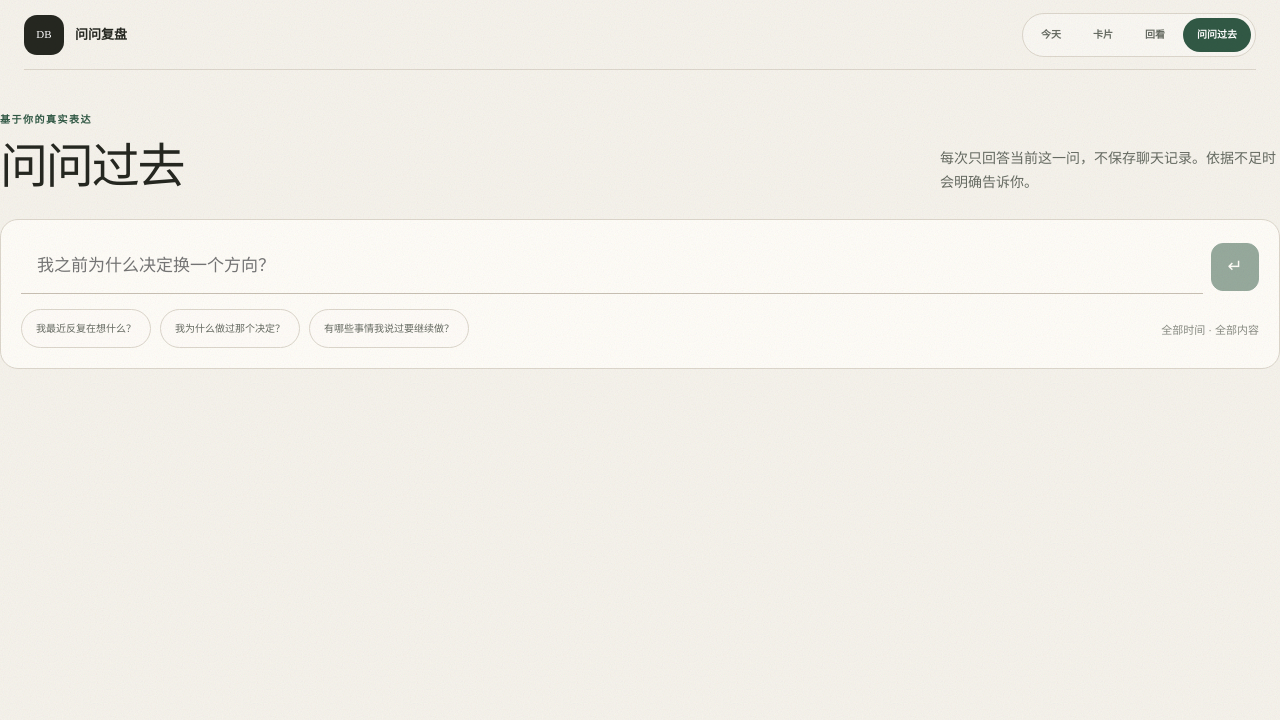
DailyReflectionQuery › replaces the previous answer instead of building chat history
Type "第一个问题" into the field named "你想问什么" at (612, 267), box [21, 240, 1203, 294]
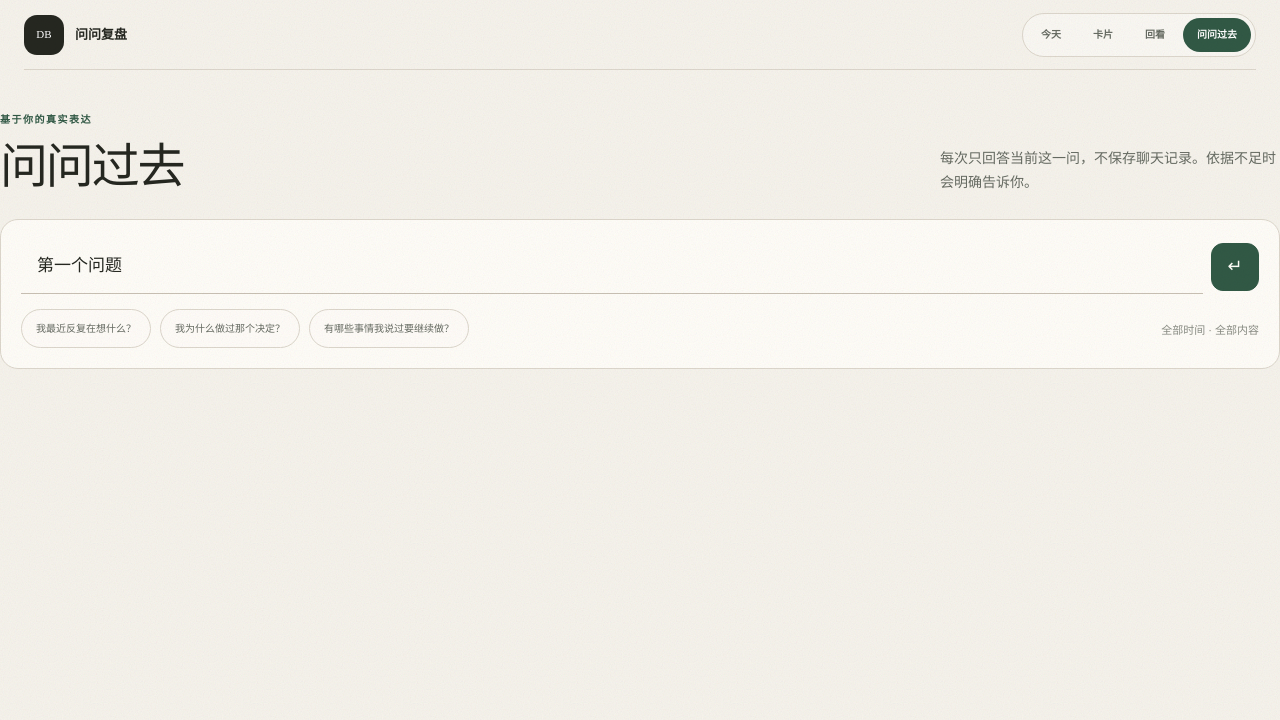
Click the button named "查找" at (1235, 267), box [1211, 243, 1259, 291]
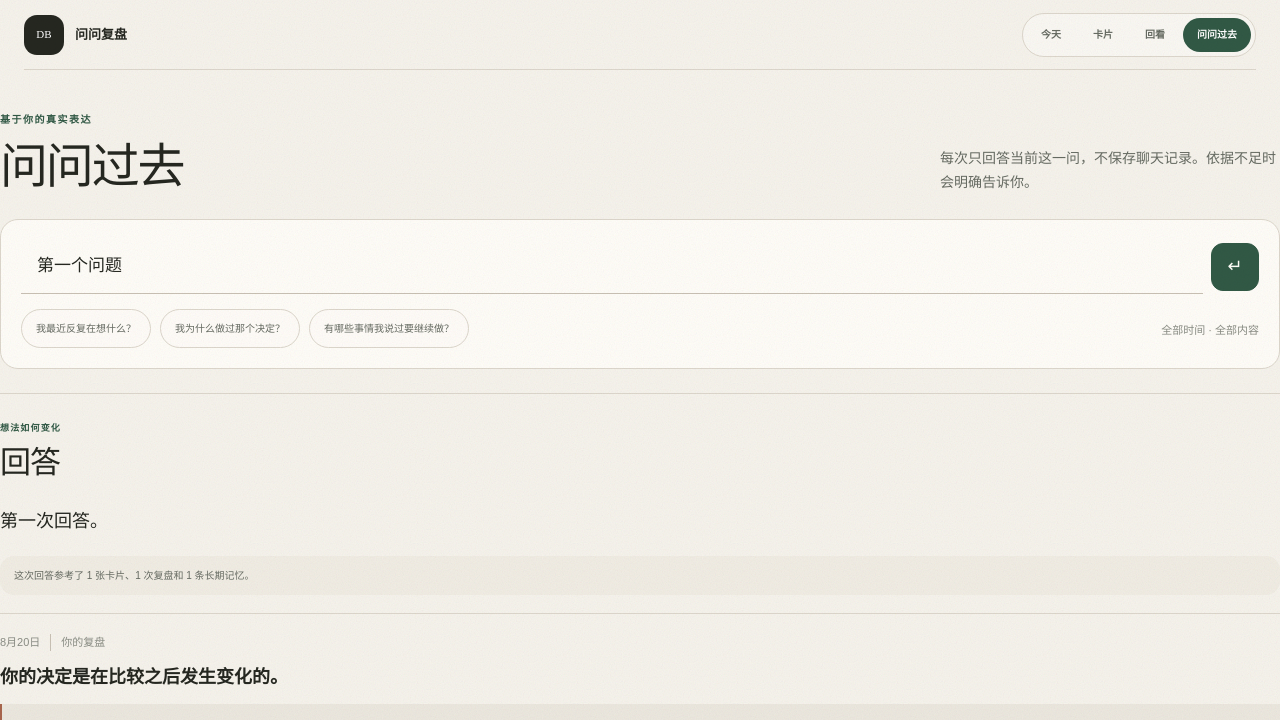
expect the text "第一次回答。" is shown: met, box [0, 511, 108, 531]
Replace the text in the field named "你想问什么" with "第二个问题" at (612, 267), box [21, 240, 1203, 294]
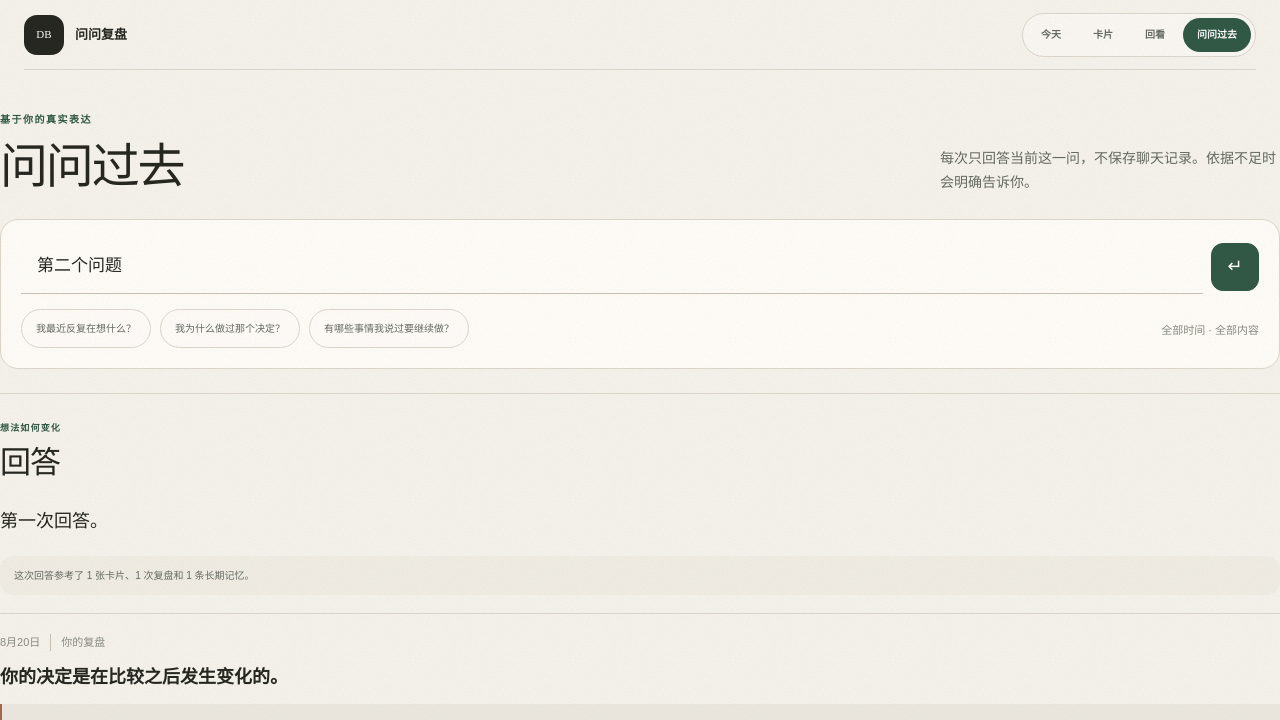
Click the button named "查找" at (1235, 267), box [1211, 243, 1259, 291]
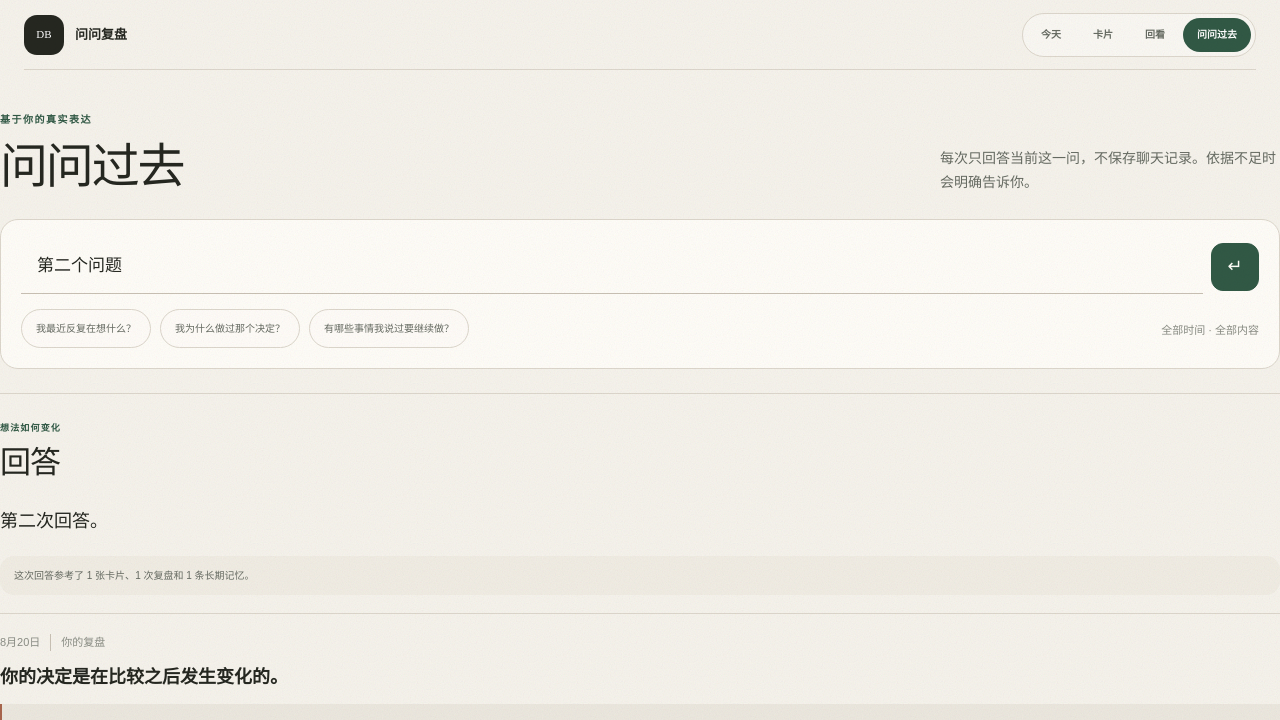
expect the text "第二次回答。" is shown: met, box [0, 511, 108, 531]
expect the text "第一次回答。" is gone: met
